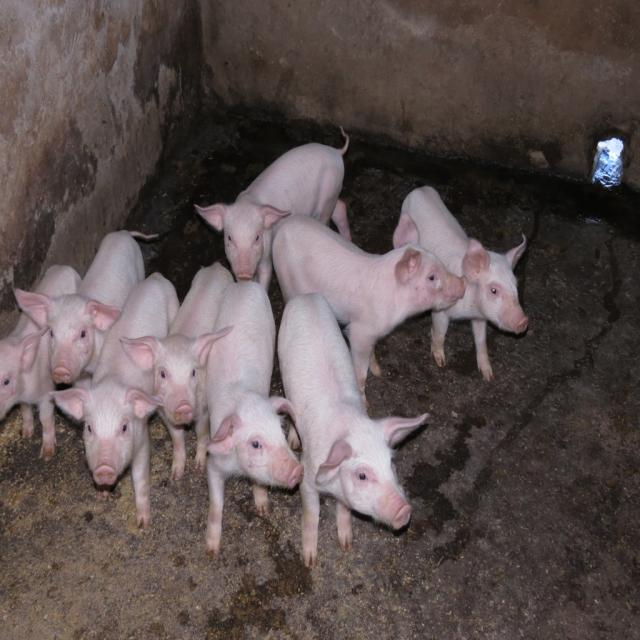Pig: (0, 125, 530, 567)
